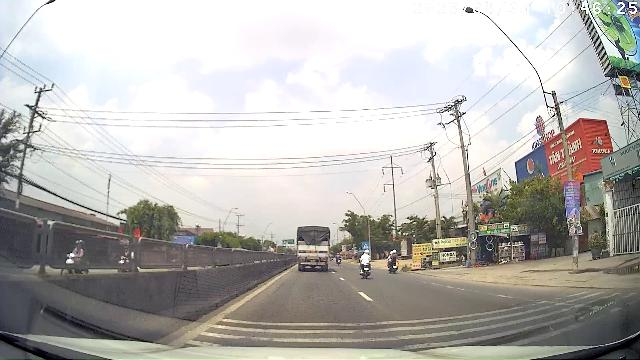423a-duong-nguoi-di-bo-sang-ngang-1: (362, 242, 369, 249)
